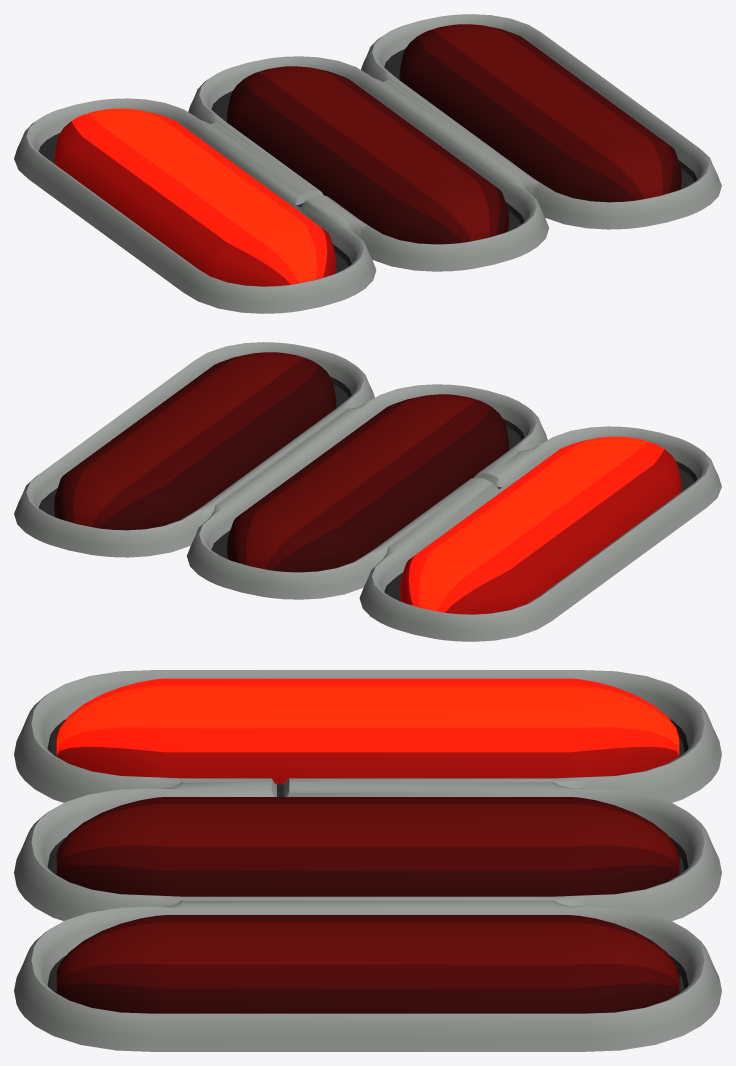
File: panel_pills_201.glb
3 renders of one model, top to bottom at view 1: azimuth 30°, elevation 25°; view 2: azimuth 150°, elevation 25°; view 3: azimuth 270°, elevation 25°, orthographic. The views are drawn at different scales.
Visible parts, largest first — view 1: glass2, glass1, glass0, rim0, rim1, rim2; view 2: glass2, glass1, glass0, rim0, rim1, rim2; view 3: glass0, glass1, glass2, rim2, rim1, rim0.
Part boxes in pixels (bbox=[...]): glass2: bbox=[399, 24, 681, 202]; glass1: bbox=[227, 66, 508, 244]; glass0: bbox=[54, 108, 336, 286]; rim0: bbox=[14, 98, 376, 313]; rim1: bbox=[188, 56, 548, 271]; rim2: bbox=[361, 14, 721, 229]; glass2: bbox=[54, 352, 336, 530]; glass1: bbox=[227, 394, 508, 572]; glass0: bbox=[399, 436, 681, 614]; rim0: bbox=[359, 426, 721, 641]; rim1: bbox=[187, 384, 547, 599]; rim2: bbox=[14, 342, 374, 557]; glass0: bbox=[56, 678, 679, 783]; glass1: bbox=[56, 797, 679, 896]; glass2: bbox=[56, 915, 679, 1013]; rim2: bbox=[14, 900, 721, 1051]; rim1: bbox=[14, 782, 721, 920]; rim0: bbox=[14, 670, 721, 802].
Bounding box in the file's own units: 24.24 × 1.8 × 20.24.
